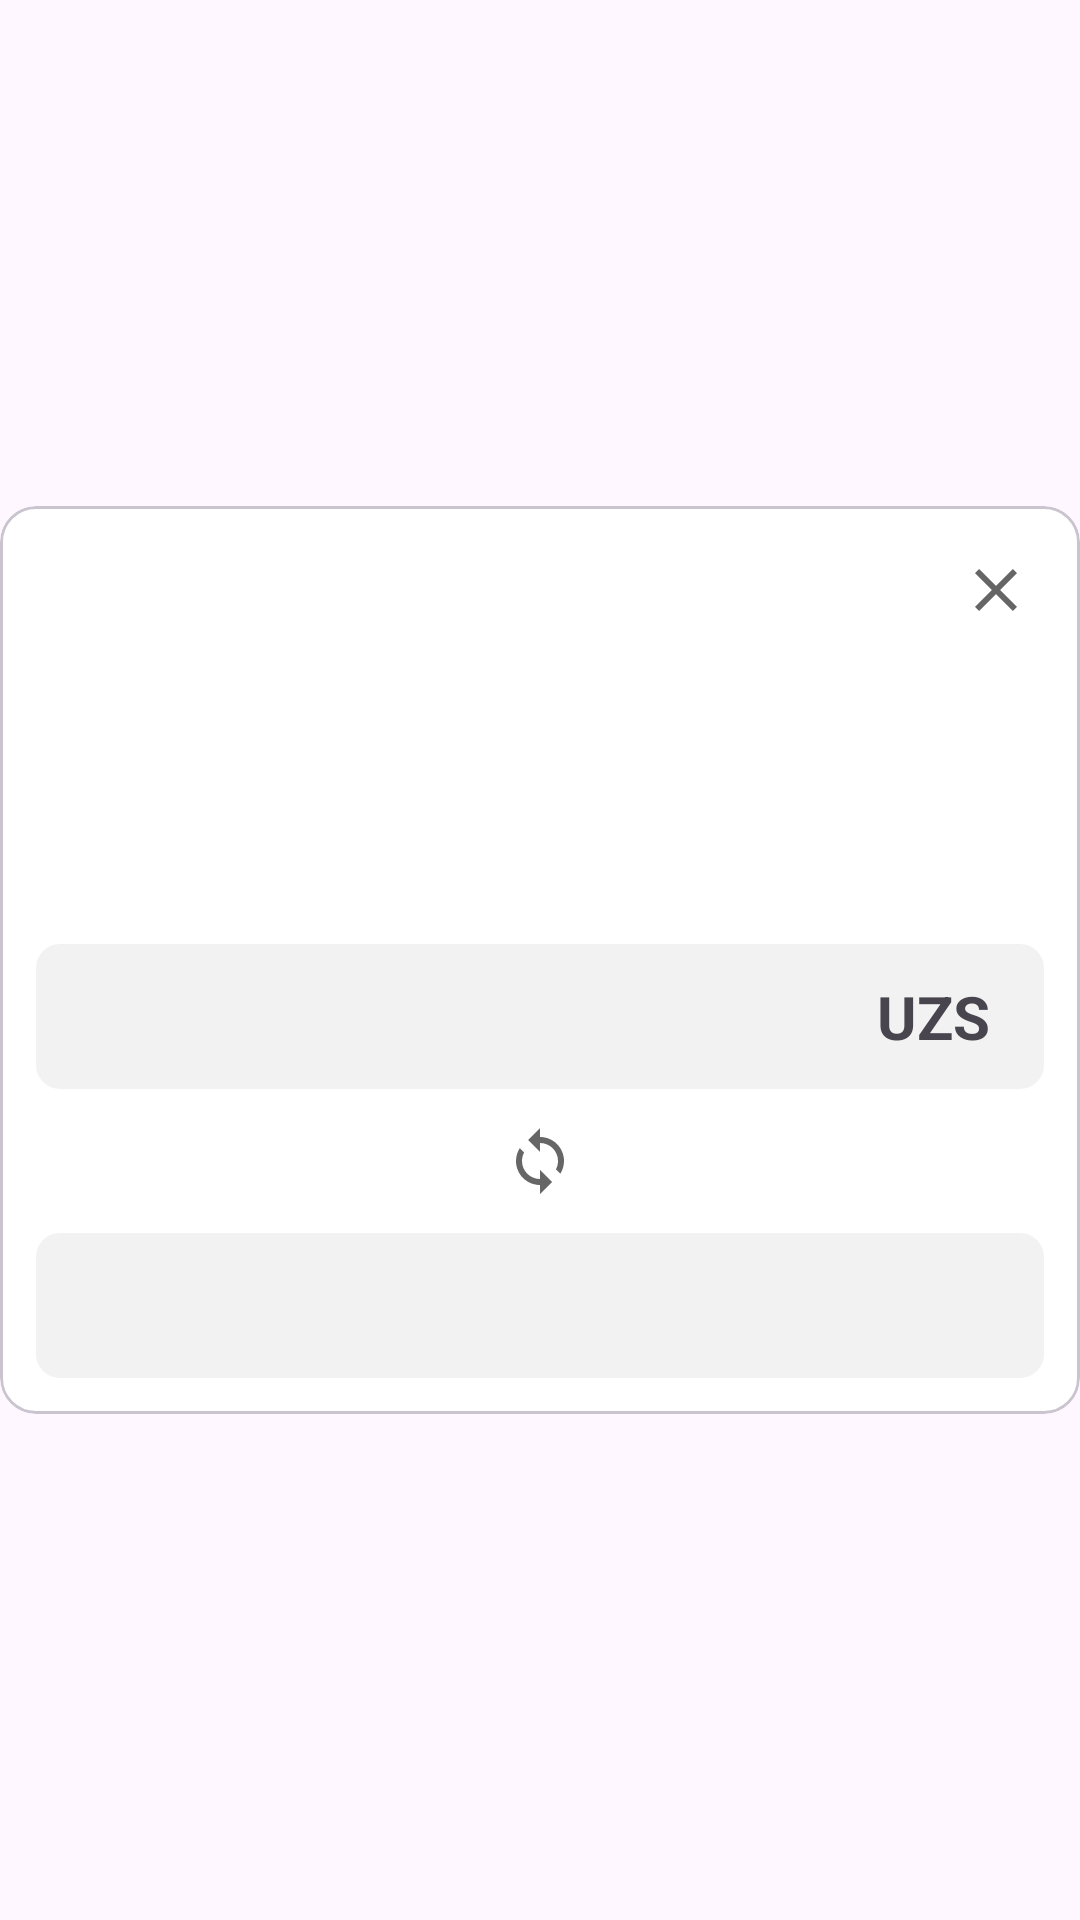

Point at icon controls on the screen. Image size 1080*1920, points as [x,y].
close: [996,590]
sync: [540,1161]
